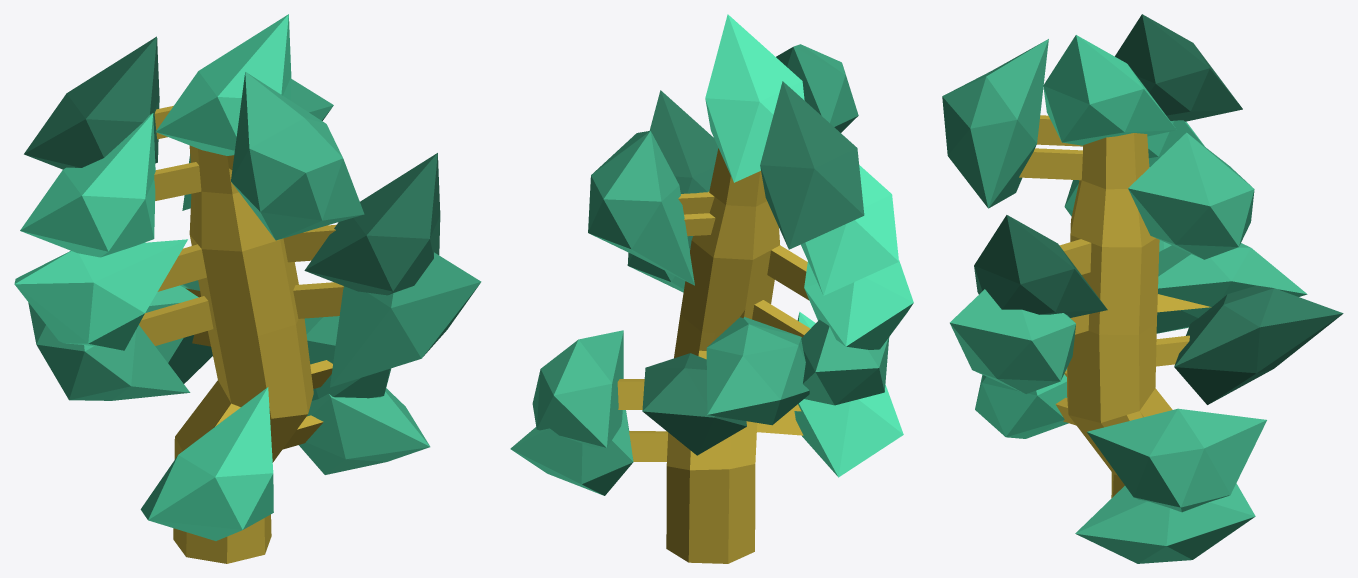
Rendered from tree 4.fbx.
The picture shows the model from 3 angles, left to right: view 1: azimuth 30°, elevation 25°; view 2: azimuth 150°, elevation 25°; view 3: azimuth 270°, elevation 25°; orthographic projection. The views are drawn at different scales.
Visible parts, largest first — view 1: tree 4; view 2: tree 4; view 3: tree 4.
Part boxes in pixels (x1,y1,x2,y2): tree 4: [14, 14, 481, 563]; tree 4: [510, 14, 913, 563]; tree 4: [942, 14, 1343, 563].
Size of the model in its own units: 928 by 1209 by 854.
